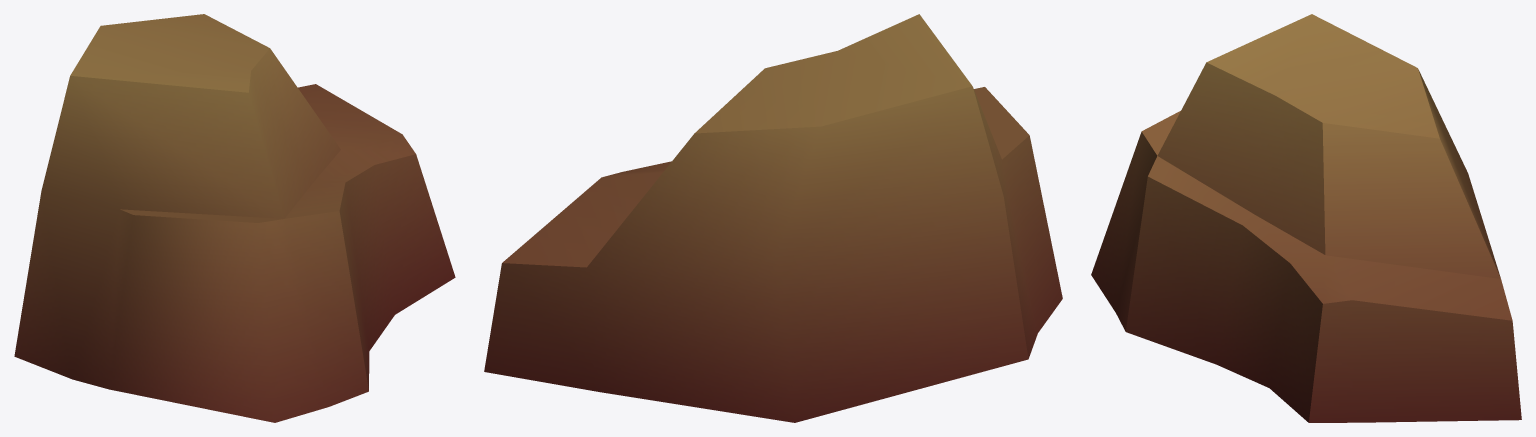
File: Mountain_medium.002.fbx
3 renders of one model, left to right at view 1: azimuth 30°, elevation 25°; view 2: azimuth 150°, elevation 25°; view 3: azimuth 270°, elevation 25°, orthographic. The views are drawn at different scales.
Visible parts, largest first — view 1: Mountain_medium.002; view 2: Mountain_medium.002; view 3: Mountain_medium.002.
Part boxes in pixels (x1=…): Mountain_medium.002: x1=14, y1=14, x2=455, y2=422; Mountain_medium.002: x1=484, y1=14, x2=1062, y2=422; Mountain_medium.002: x1=1091, y1=14, x2=1521, y2=422.
Size of the model in its own units: 70.24 by 44.84 by 70.06.
